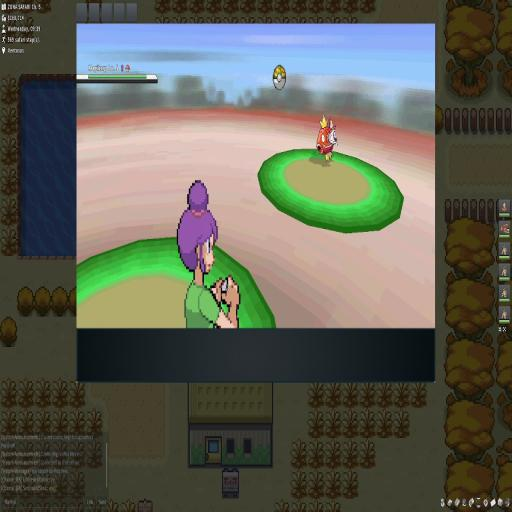MAGIKARP: (316, 115, 338, 163)
